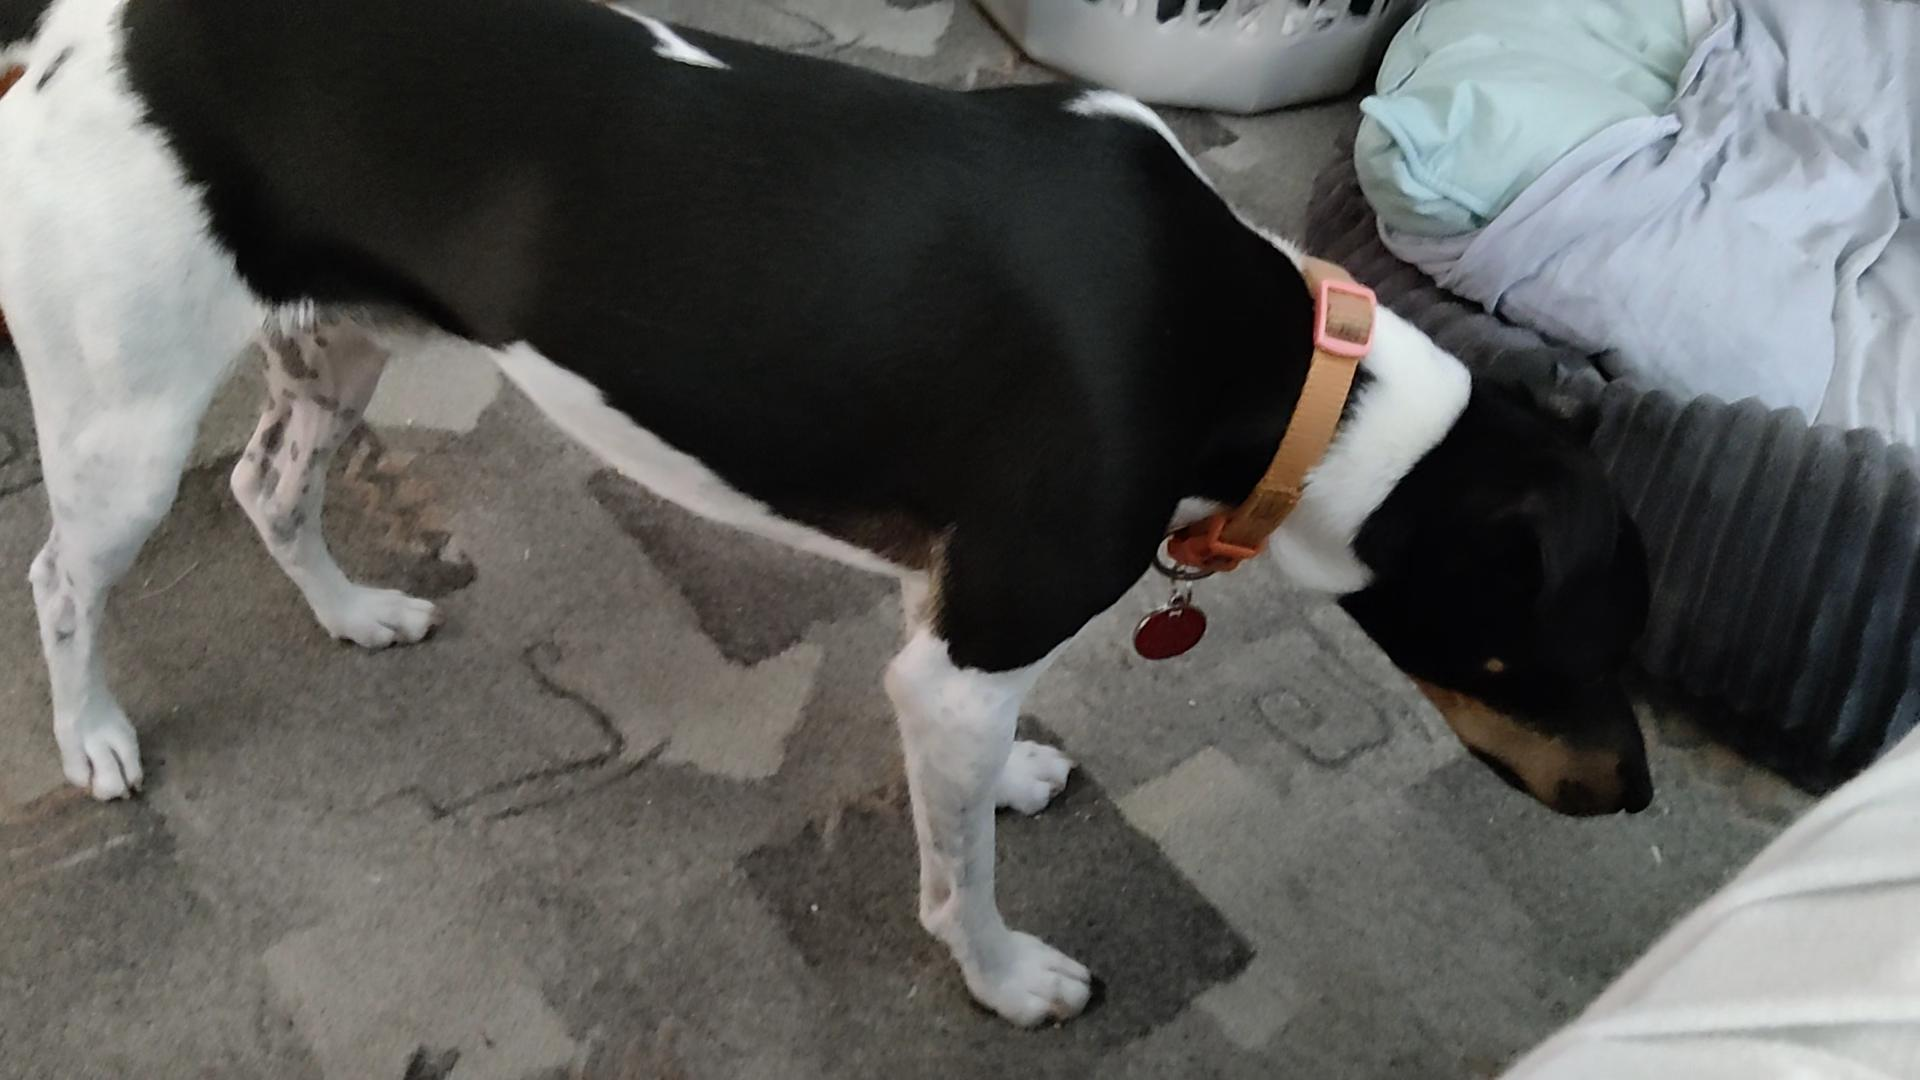Dog: (0, 0, 1660, 1035)
